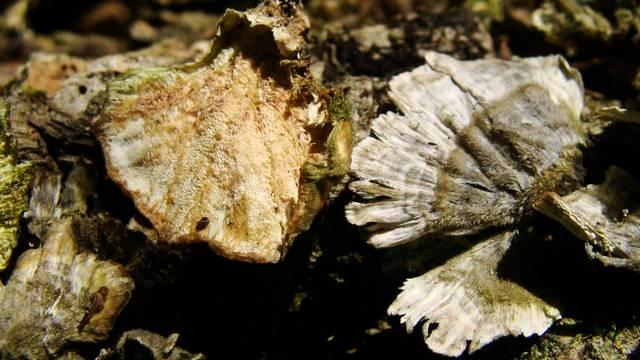poisonous_mushroom: (49, 1, 355, 265), (343, 48, 590, 250)
